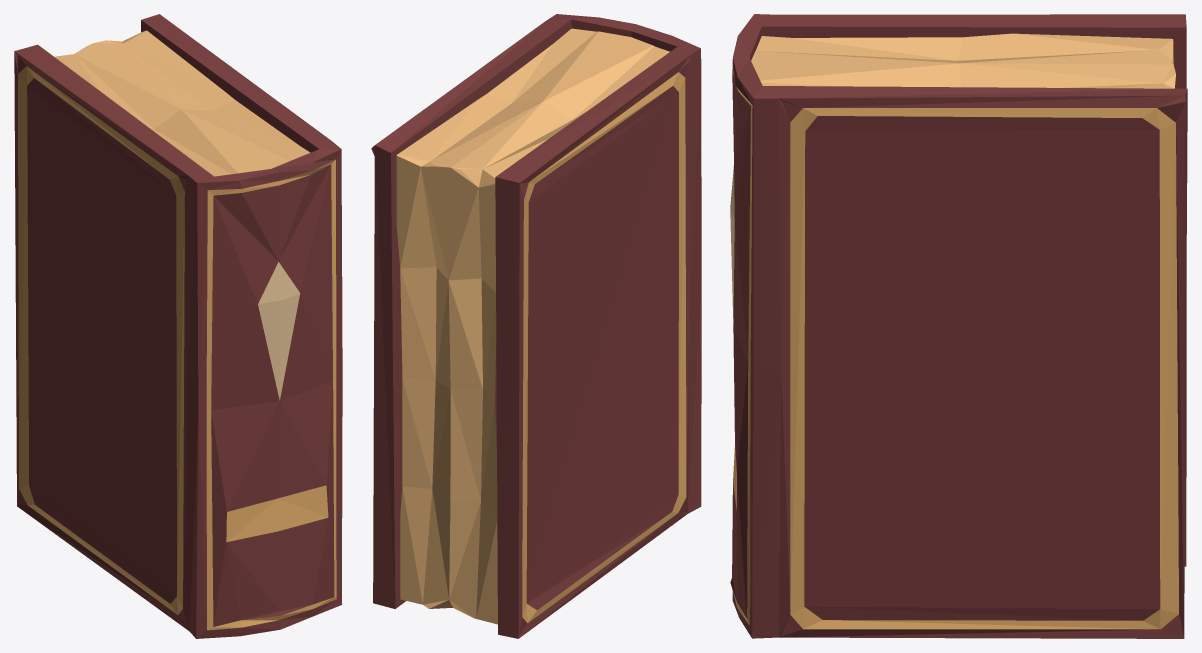
The model's file is Book_003.fbx.
The picture shows the model from 3 angles, left to right: view 1: azimuth 30°, elevation 25°; view 2: azimuth 150°, elevation 25°; view 3: azimuth 270°, elevation 25°; orthographic projection. The views are drawn at different scales.
Visible parts, largest first — view 1: Book_003; view 2: Book_003; view 3: Book_003.
Part boxes in pixels (x1,y1,x2,y2): Book_003: (14, 14, 342, 638); Book_003: (371, 14, 701, 638); Book_003: (730, 14, 1187, 638).
Size of the model in its own units: 0.1068 by 0.3158 by 0.2403.
